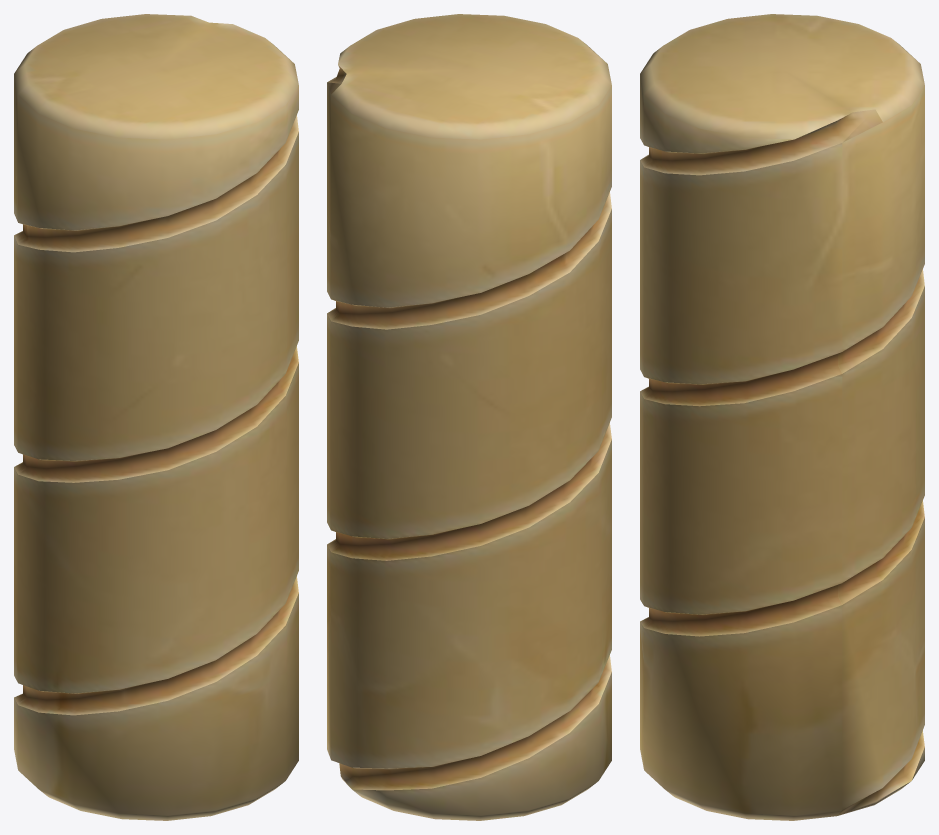
The model's file is DE_House_Mod_Part_93.fbx.
3 renders of one model, left to right at view 1: azimuth 30°, elevation 25°; view 2: azimuth 150°, elevation 25°; view 3: azimuth 270°, elevation 25°, orthographic.
Visible parts, largest first — view 1: DE_House_Mod_Part_93; view 2: DE_House_Mod_Part_93; view 3: DE_House_Mod_Part_93.
Part boxes in pixels (x1,y1,x2,y2): DE_House_Mod_Part_93: [14, 14, 298, 820]; DE_House_Mod_Part_93: [327, 14, 611, 820]; DE_House_Mod_Part_93: [640, 14, 924, 820].
Size of the model in its own units: 0.9775 by 2.63 by 0.9765.
